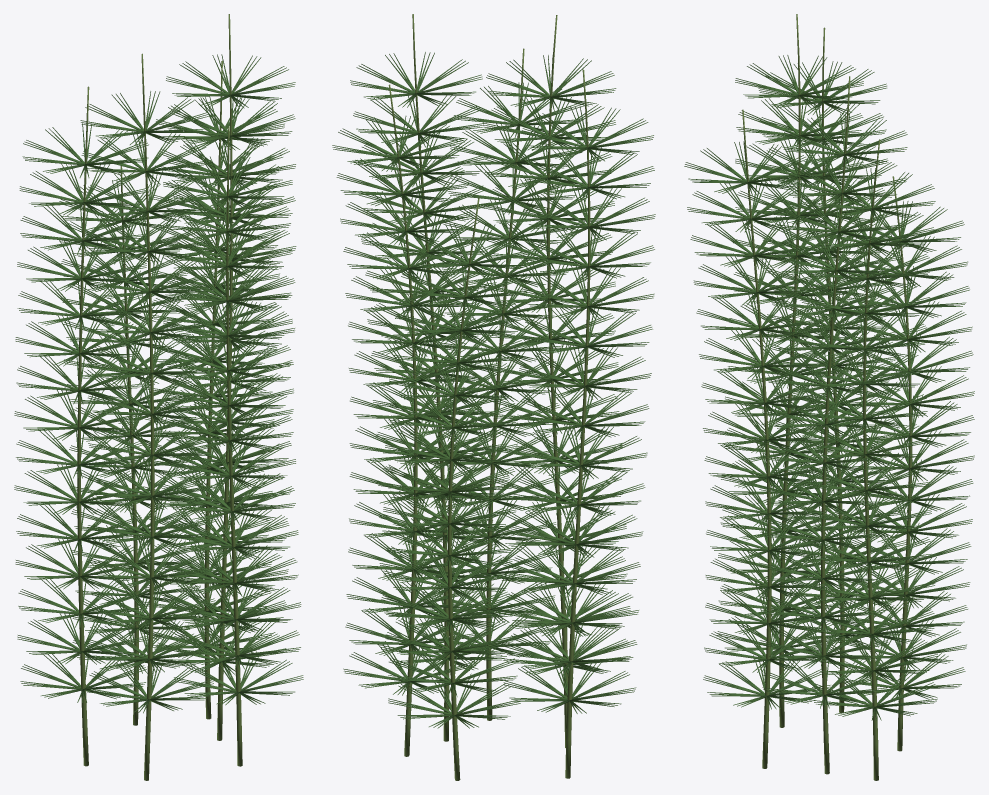
Rendered from hornwort-desktop.glb.
The picture shows the model from 3 angles, left to right: view 1: azimuth 30°, elevation 25°; view 2: azimuth 150°, elevation 25°; view 3: azimuth 270°, elevation 25°; orthographic projection. The views are drawn at different scales.
Visible parts, largest first — view 1: dissected-leaf-ray, branching-stem; view 2: dissected-leaf-ray, branching-stem; view 3: dissected-leaf-ray, branching-stem.
Boxes of the visible parts, x1,y1,x2,y2 form: dissected-leaf-ray: (14, 54, 303, 713); branching-stem: (77, 14, 242, 780); dissected-leaf-ray: (332, 52, 655, 728); branching-stem: (388, 14, 590, 780); dissected-leaf-ray: (684, 55, 974, 720); branching-stem: (742, 14, 912, 780).
Bounding box in the file's own units: 0.415 × 1.04 × 0.3835.
